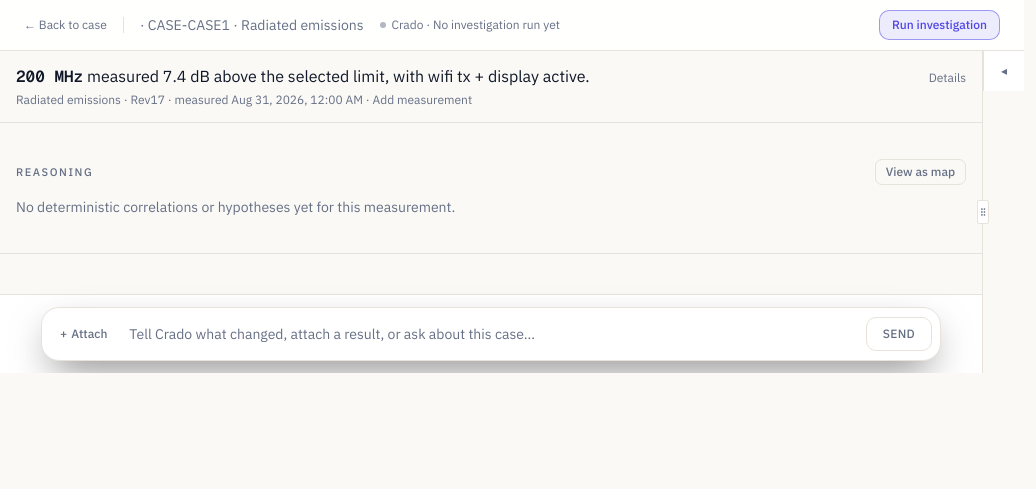
Test: InvestigationWorkspace — streaming › shows a recoverable error state when the connection drops before a terminal event arrives
This screenshot has width=1036, height=489.
Click the button "Run investigation" at (940, 25), box [879, 10, 1000, 40]
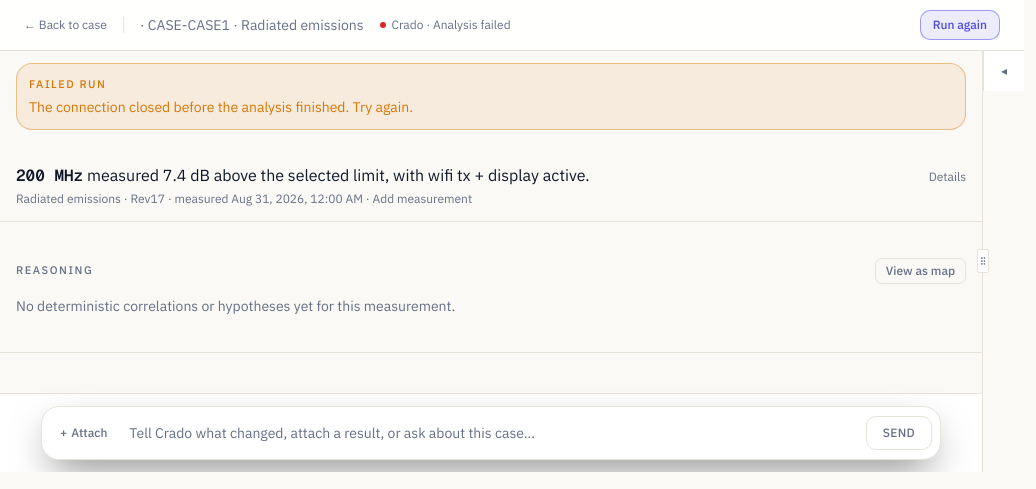
Result: the message "Failed run The connection closed before the analysis finished. Try again." is shown at [16, 63, 966, 130]
